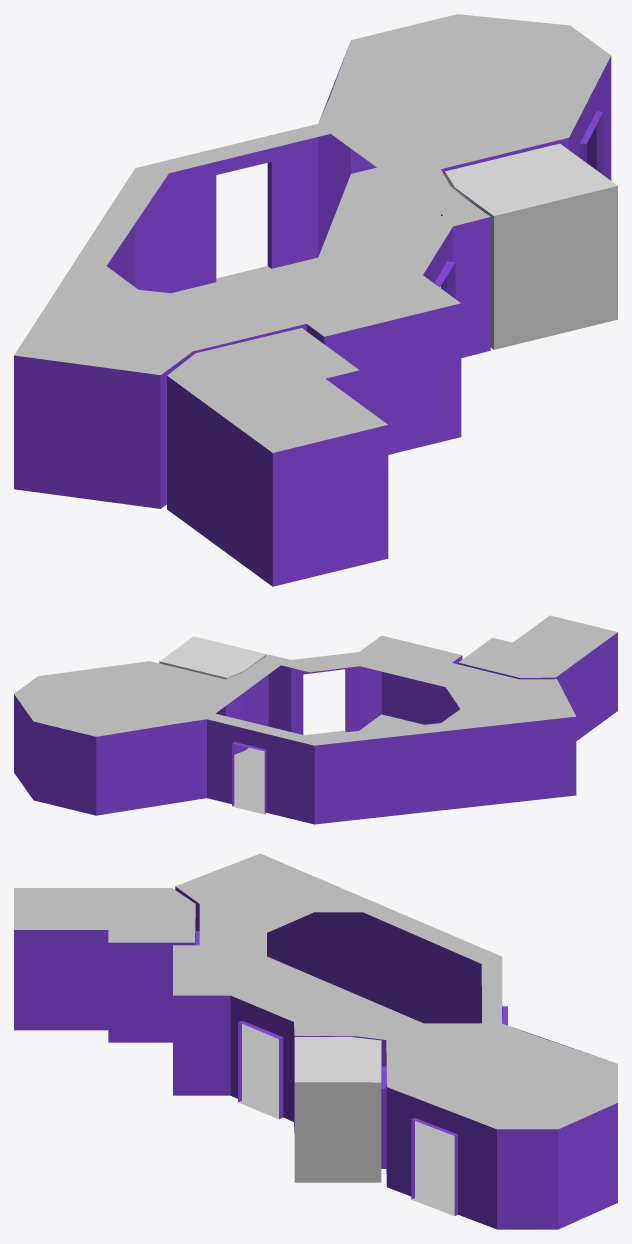
Rendered from sala primeiro andar.fbx.
3 views of the same model, one above another, from view 1: azimuth 30°, elevation 25°; view 2: azimuth 150°, elevation 25°; view 3: azimuth 270°, elevation 25° (orthographic). The views are drawn at different scales.
Visible parts, largest first — view 1: primeiro andar; view 2: primeiro andar; view 3: primeiro andar.
Part boxes in pixels (x1,y1,x2,y2): primeiro andar: (14,14,617,586); primeiro andar: (14,615,617,824); primeiro andar: (14,853,617,1229).
Size of the model in its own units: 1770 by 300 by 1637.
